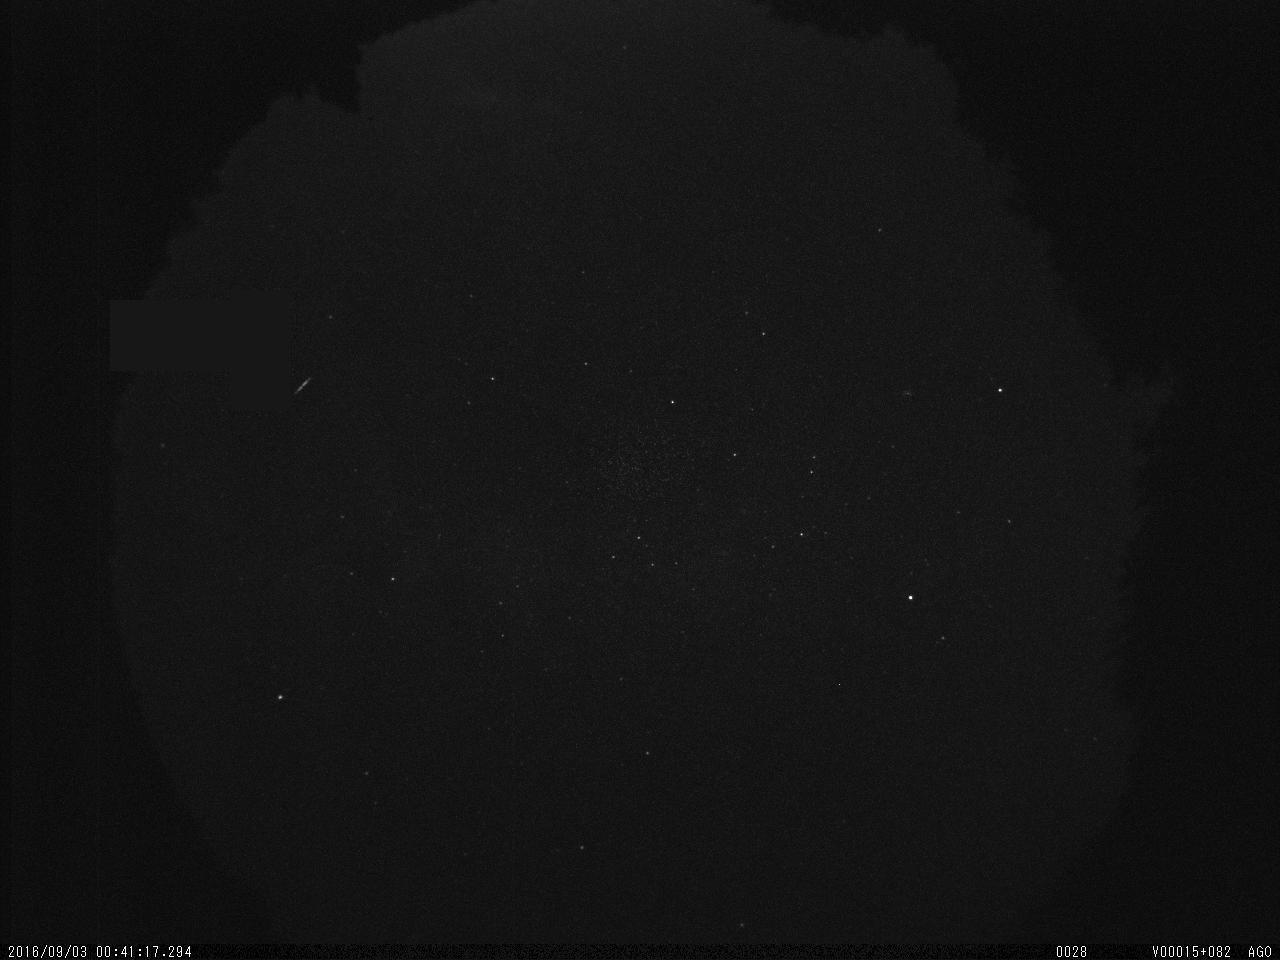meteor: (286, 370, 317, 402)
